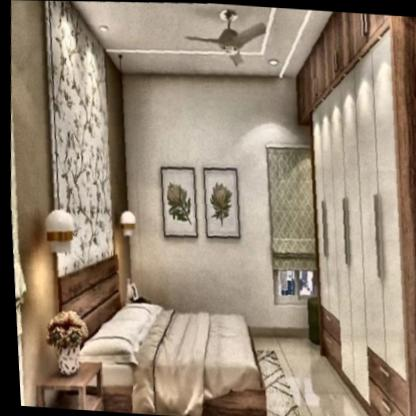Bed: (64, 273, 267, 409)
Closet: (330, 27, 416, 416)
Frame: (195, 155, 246, 246), (149, 157, 200, 243)
Lamp: (22, 9, 87, 258), (99, 50, 150, 245)
